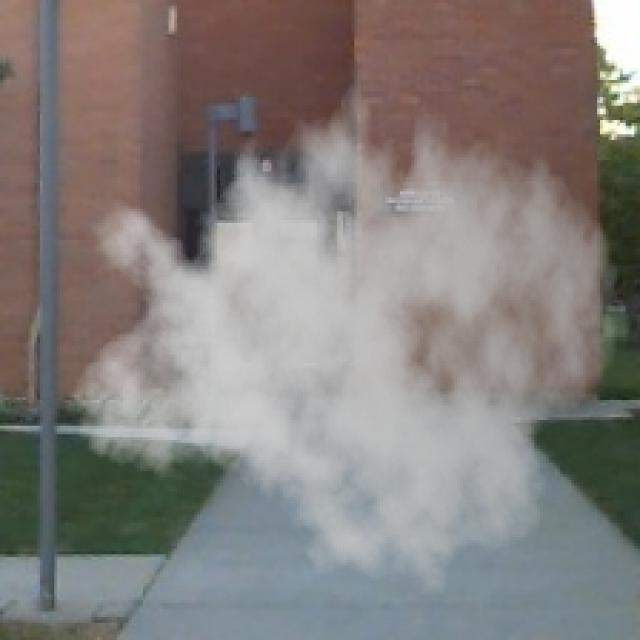Smoke: (71, 57, 620, 609)
